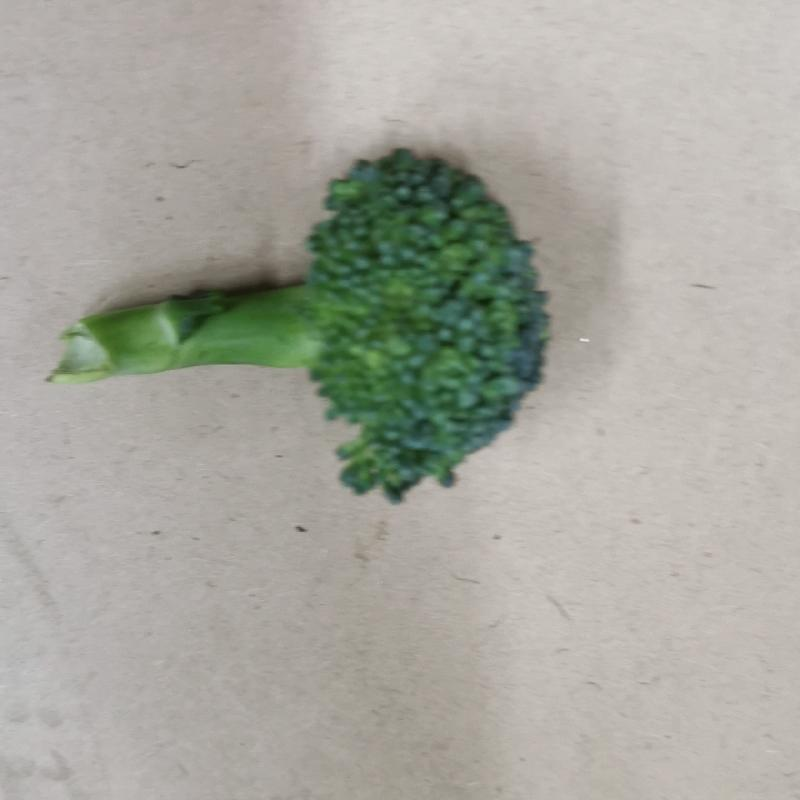broccoli: (48, 147, 554, 503)
